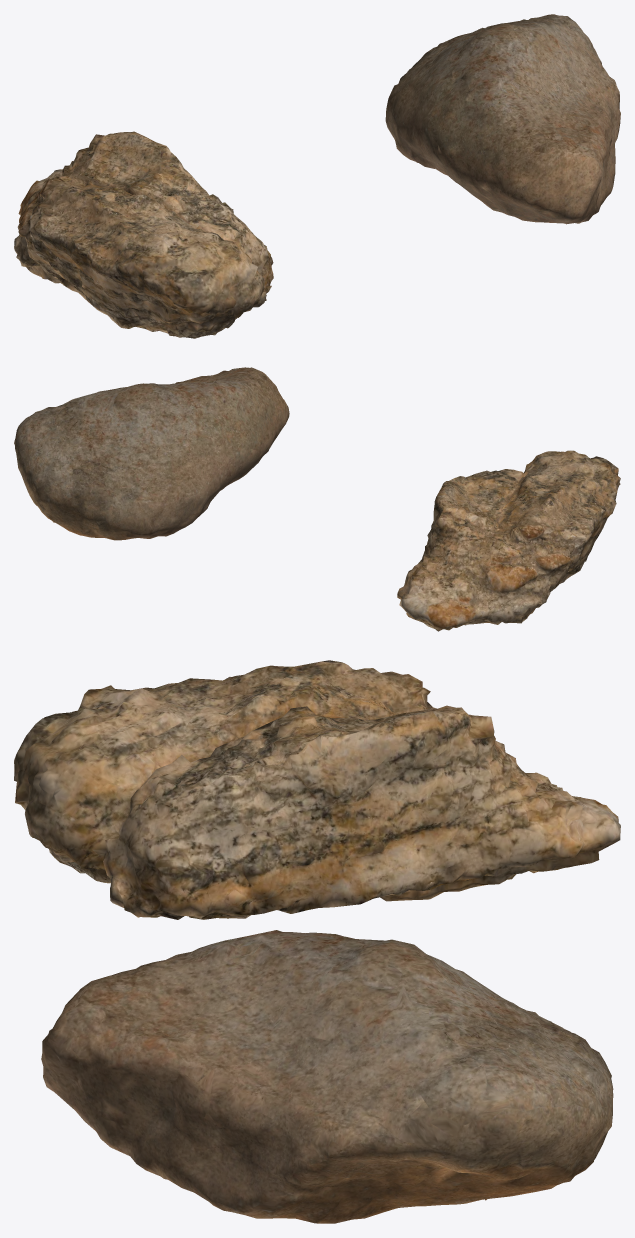
File: namaqualand_boulders_01.glb
3 renders of one model, top to bottom at view 1: azimuth 30°, elevation 25°; view 2: azimuth 150°, elevation 25°; view 3: azimuth 270°, elevation 25°, orthographic. The views are drawn at different scales.
Visible parts, largest first — view 1: namaqualand_rocks_01_a, namaqualand_rocks_01_b; view 2: namaqualand_rocks_01_a, namaqualand_rocks_01_b; view 3: namaqualand_rocks_01_a, namaqualand_rocks_01_b.
Part boxes in pixels (x1,y1,x2,y2): namaqualand_rocks_01_a: [385, 14, 620, 224]; namaqualand_rocks_01_b: [14, 131, 273, 338]; namaqualand_rocks_01_a: [14, 367, 289, 540]; namaqualand_rocks_01_b: [397, 450, 620, 631]; namaqualand_rocks_01_a: [41, 930, 613, 1223]; namaqualand_rocks_01_b: [14, 660, 620, 919].
Bounding box in the file's own units: 1.06 × 0.252 × 0.5838.
Materials: 1 (1 with a texture image).
